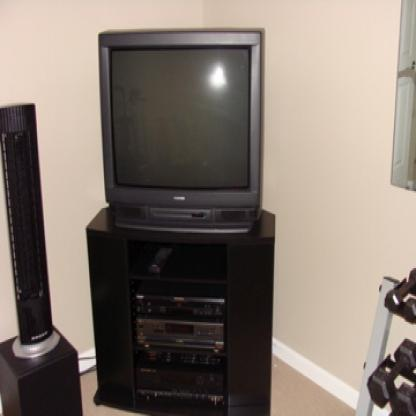tvmonitor: (98, 27, 265, 235)
